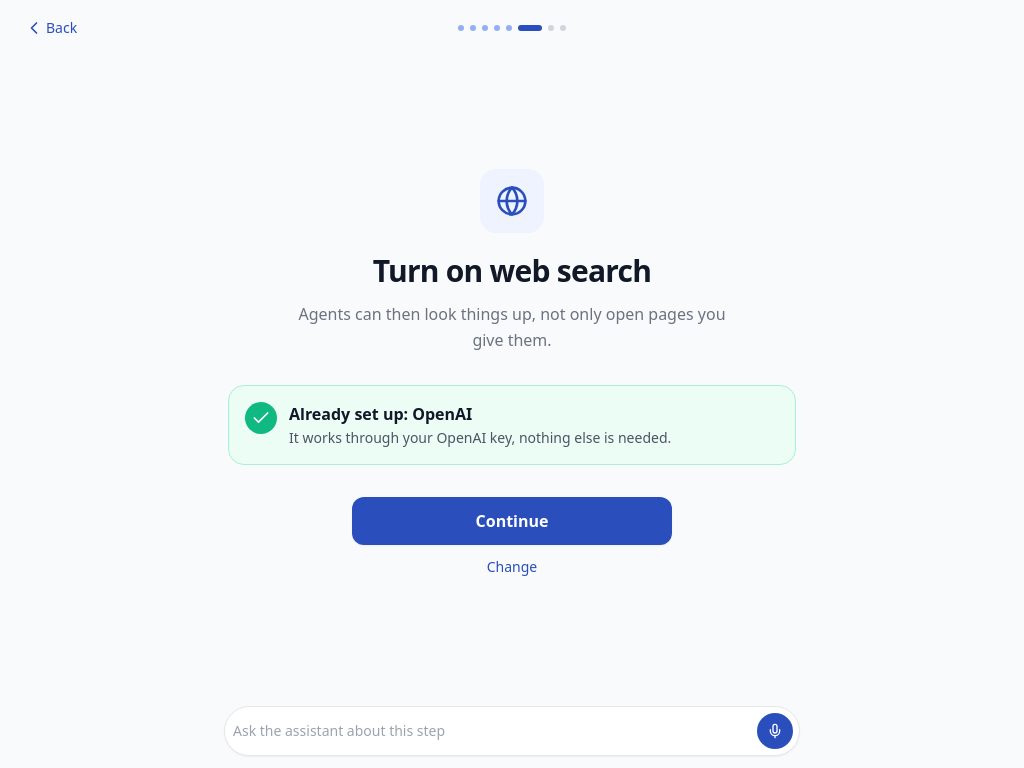
Test: FirstRun › screens already set up › shows the search backend and goes on without saving
Check: the element with test id "first-run-search-configured" shows "Already set up: OpenAI", box 289,403 -> 472,425
Step 1. Click the button with test id "first-run-continue" → [512, 521], box 352,497 -> 672,545
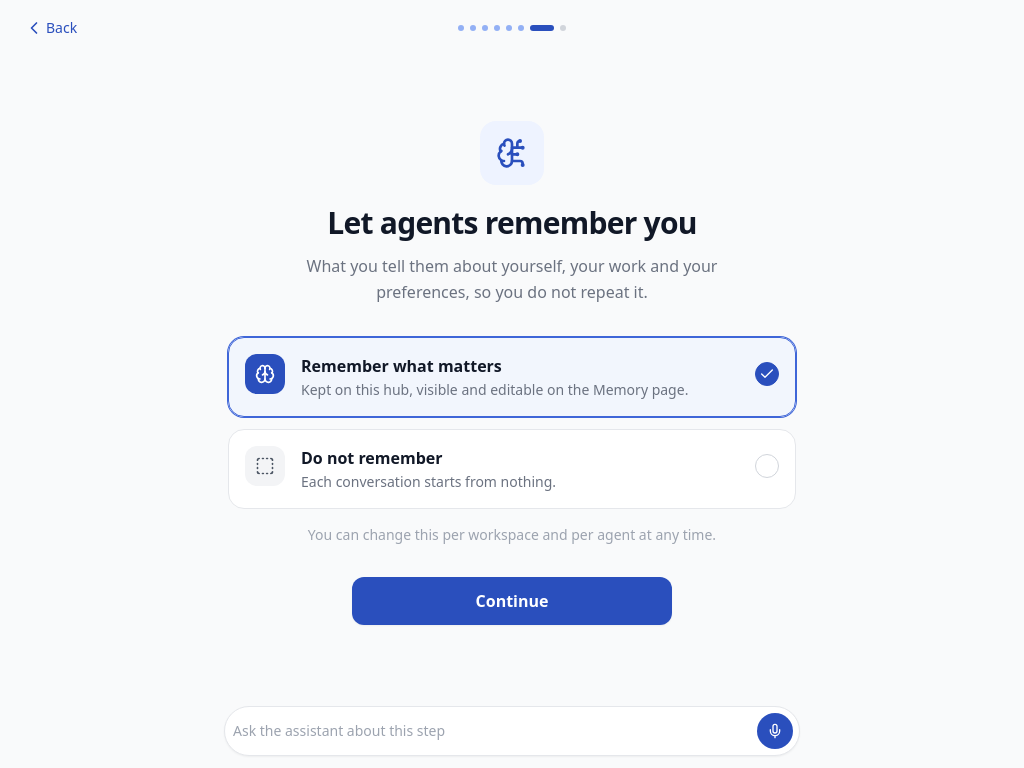
Check: the element with test id "first-run-memory" is shown, box 224,56 -> 800,674
